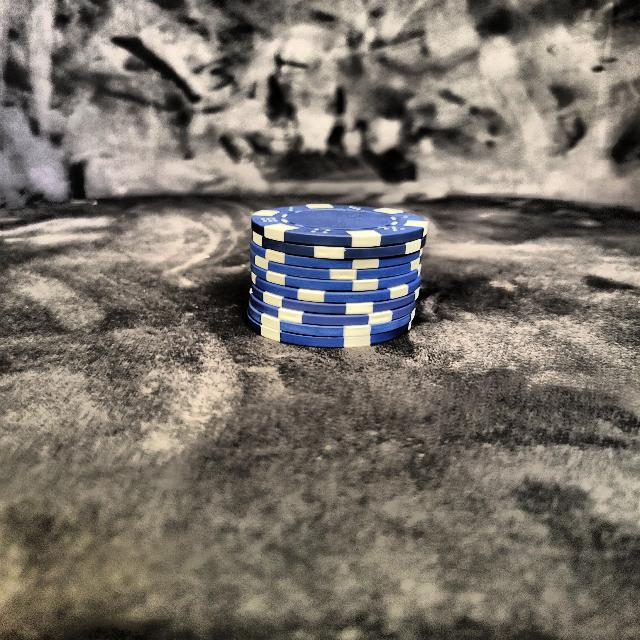Chip: (251, 183, 421, 354)
